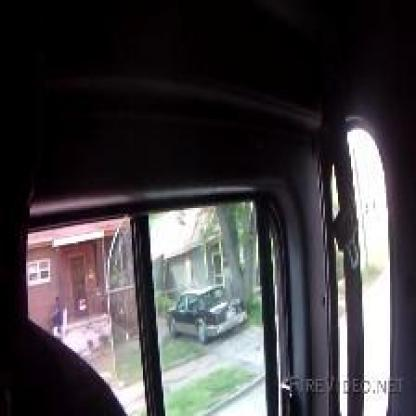other: (341, 129, 394, 396), (148, 217, 207, 251)
